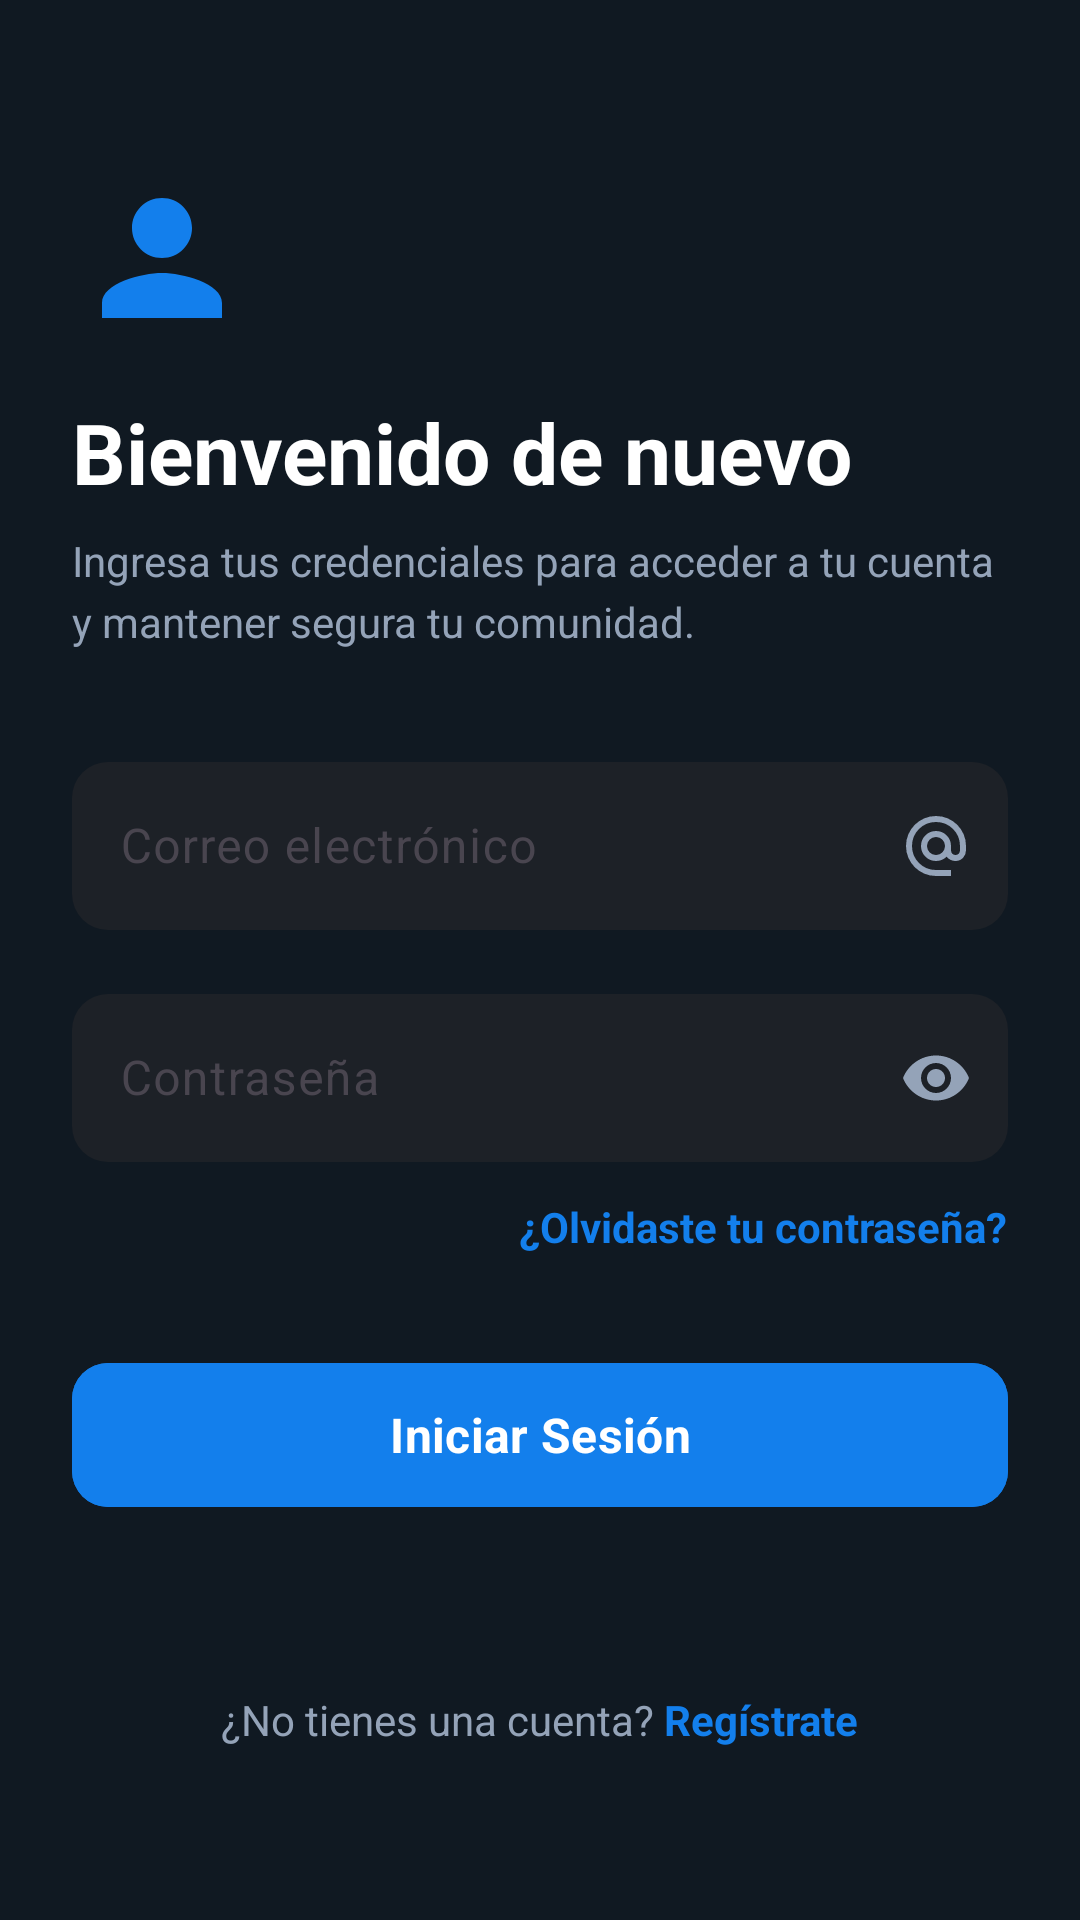

Screen size 1080px x 1920px. Icon name, then its box in pixels as (x1, y1, x2, y2):
person: (102, 198, 222, 318)
